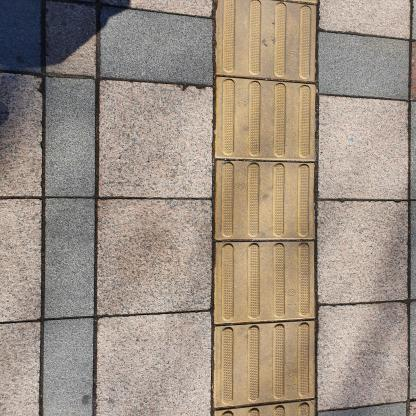podotacti: (204, 0, 325, 415)
